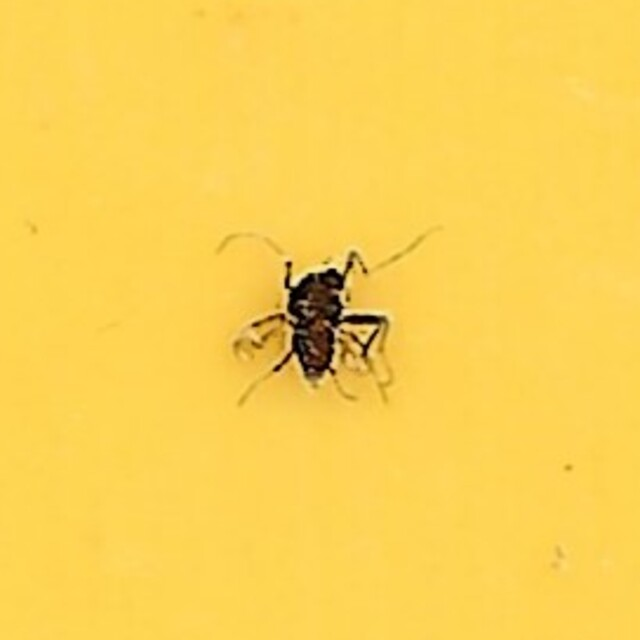Nematocera: (235, 224, 405, 416)
